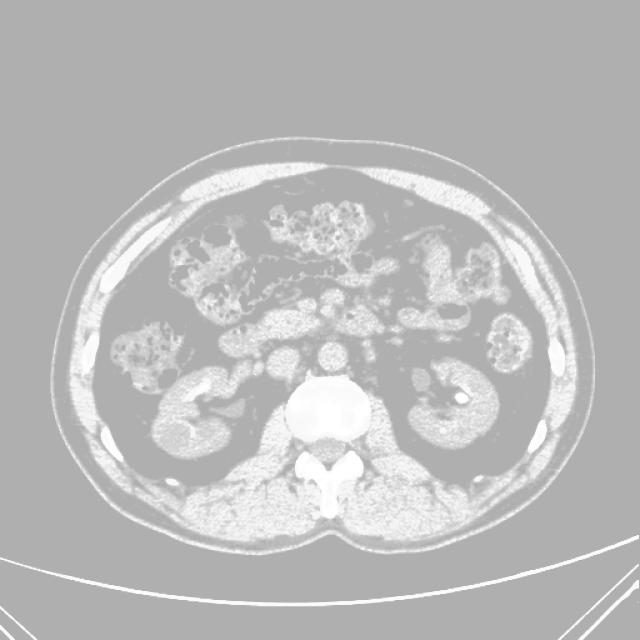STONE: (146, 232, 509, 427)
